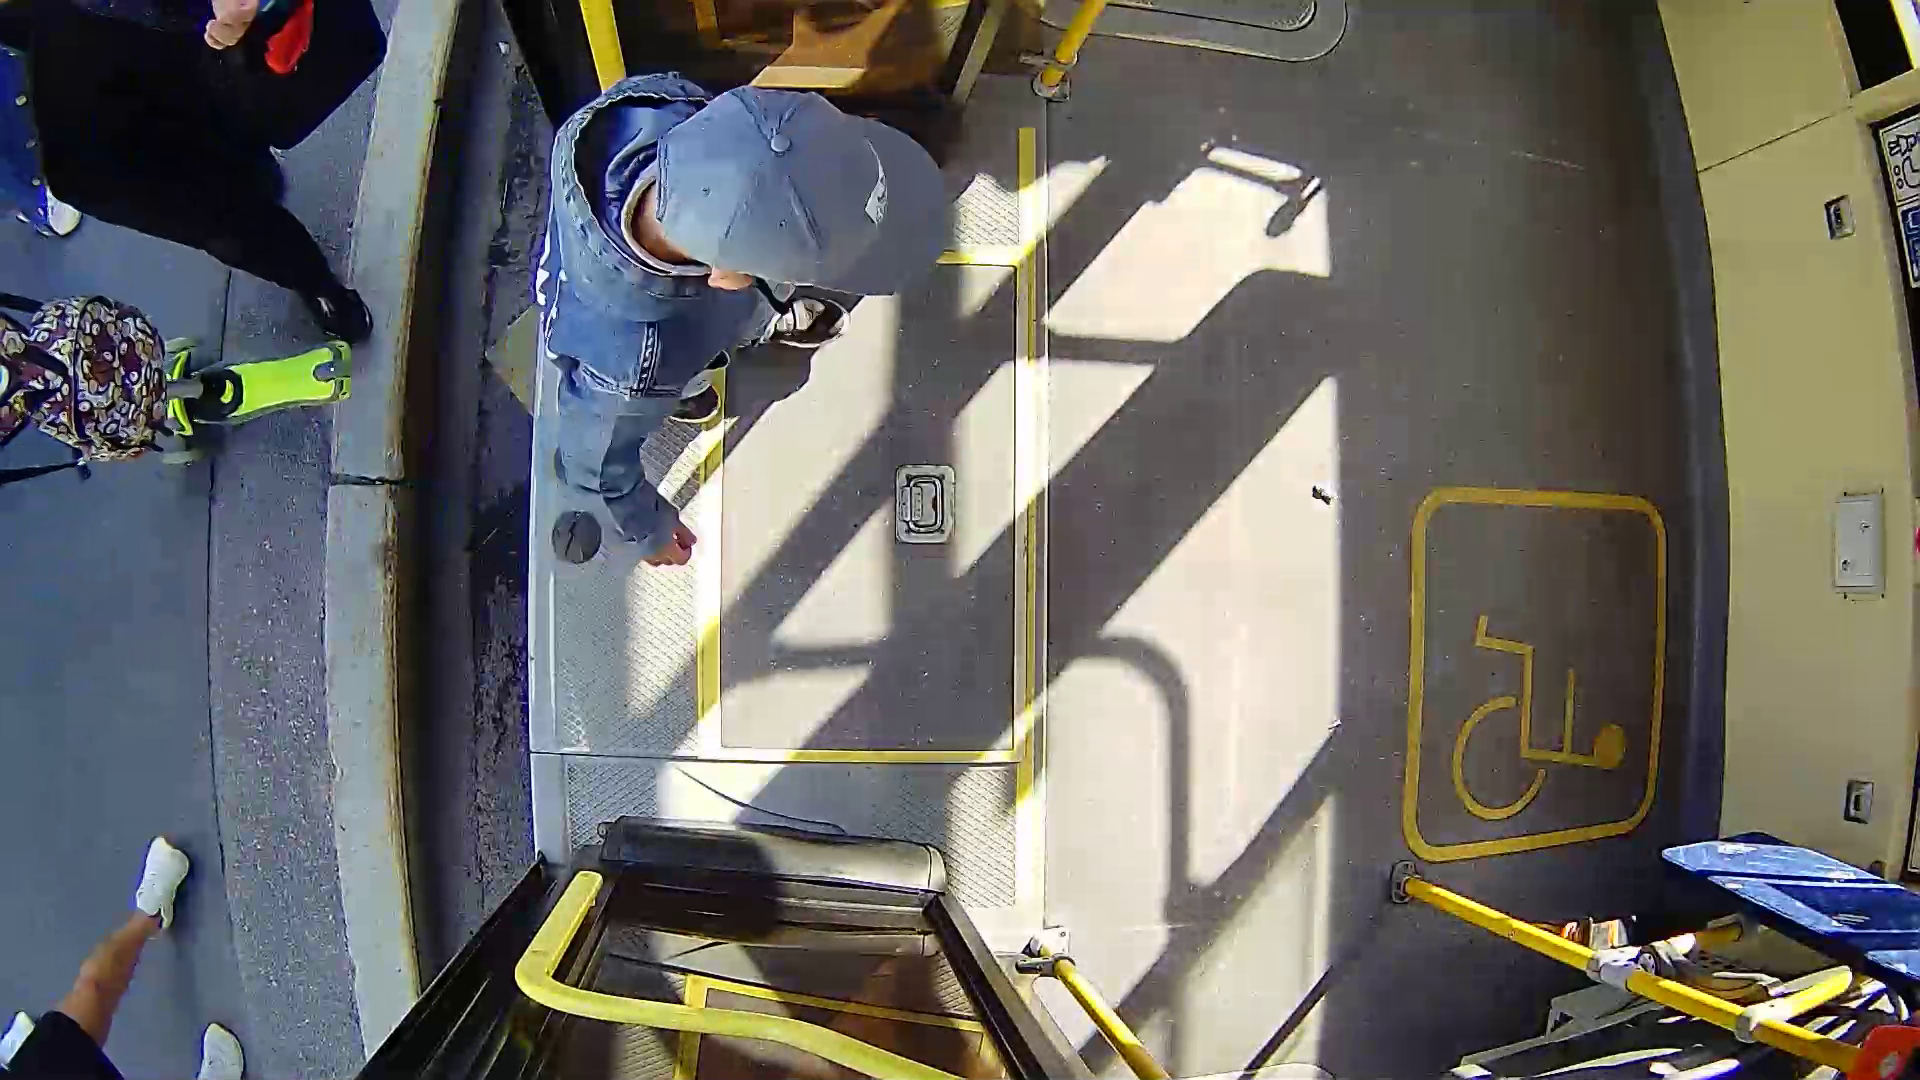person: (459, 8, 1005, 550)
